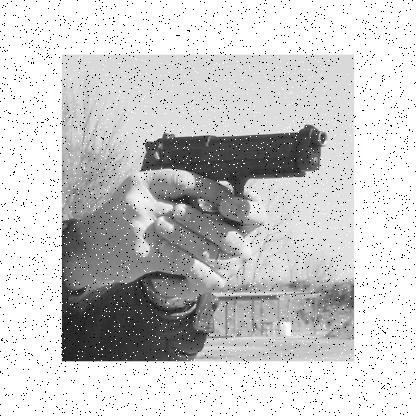gun: (129, 125, 329, 279)
